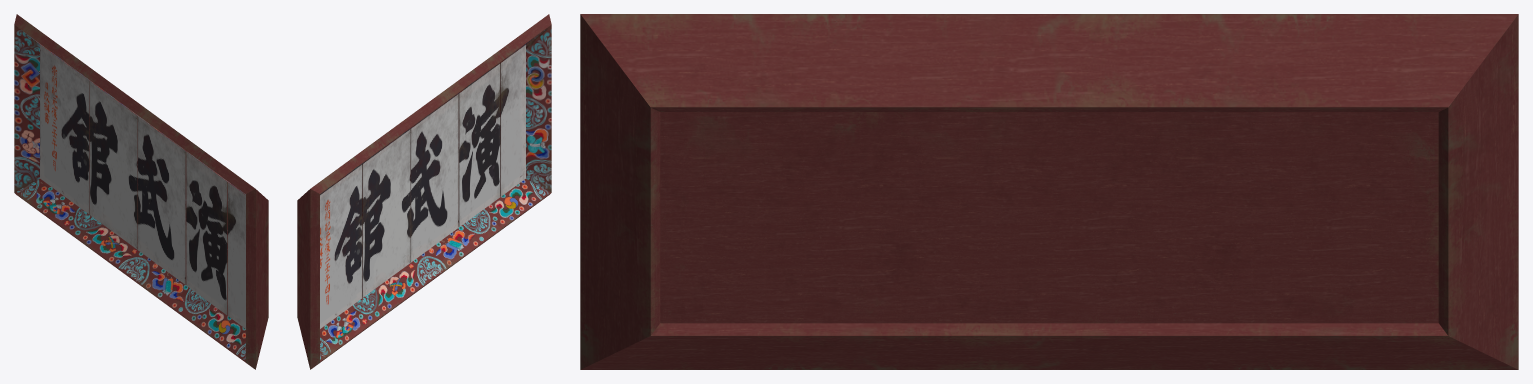
File: SM_YMG_Signboard01b.fbx
3 renders of one model, left to right at view 1: azimuth 30°, elevation 25°; view 2: azimuth 150°, elevation 25°; view 3: azimuth 270°, elevation 25°, orthographic. The views are drawn at different scales.
Visible parts, largest first — view 1: SM_YMG_Signboard01b; view 2: SM_YMG_Signboard01b; view 3: SM_YMG_Signboard01b.
Boxes of the visible parts, x1,y1,x2,y2 form: SM_YMG_Signboard01b: (14,14,268,369); SM_YMG_Signboard01b: (297,14,551,369); SM_YMG_Signboard01b: (580,14,1518,369).
Bounding box in the file's own units: 16.97 × 189 × 78.97.
1 material, 1 textured.
